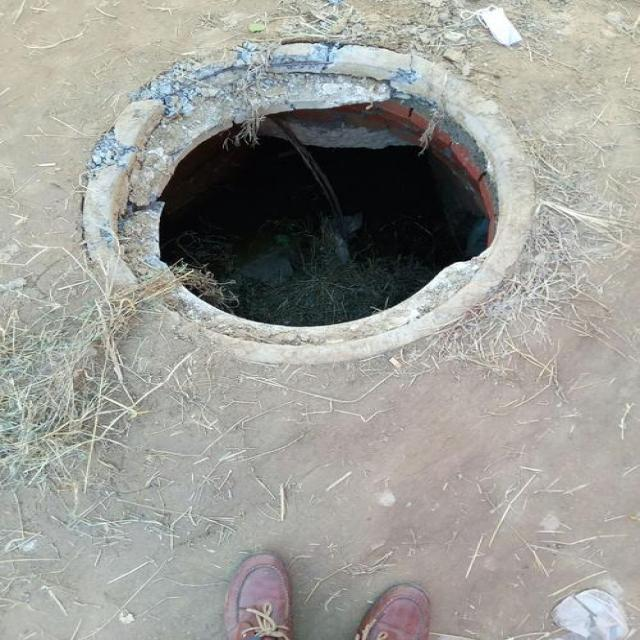manhole-cover: (111, 70, 497, 352)
